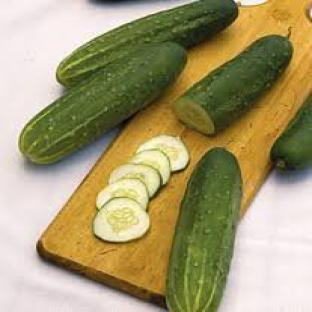Cucumber: (20, 43, 186, 163), (166, 149, 242, 311), (172, 35, 292, 134), (270, 95, 311, 170), (94, 199, 149, 241), (136, 135, 189, 171), (109, 164, 161, 196), (97, 178, 149, 209), (130, 150, 170, 185)
